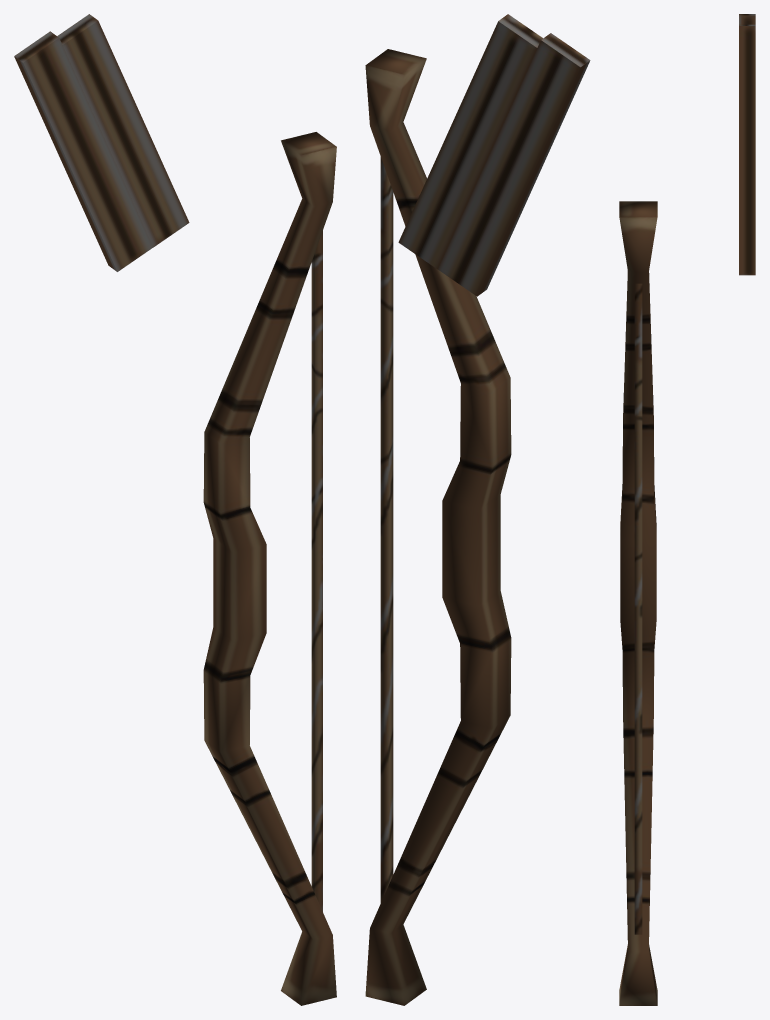
File: Weapon0.1.fbx
3 views of the same model, side by side, from view 1: azimuth 30°, elevation 25°; view 2: azimuth 150°, elevation 25°; view 3: azimuth 270°, elevation 25° (orthographic). The views are drawn at different scales.
Visible parts, largest first — view 1: Arch, Box; view 2: Arch, Box; view 3: Arch, Box.
Part boxes in pixels (<box>): Arch: <box>203,132,336,1005</box>; Box: <box>14,14,189,271</box>; Arch: <box>365,49,511,1005</box>; Box: <box>398,14,590,296</box>; Arch: <box>619,201,657,1005</box>; Box: <box>739,14,755,275</box>.
Size of the model in its own units: 42.84 by 159 by 21.79.
Materials: 1 (1 with a texture image).
